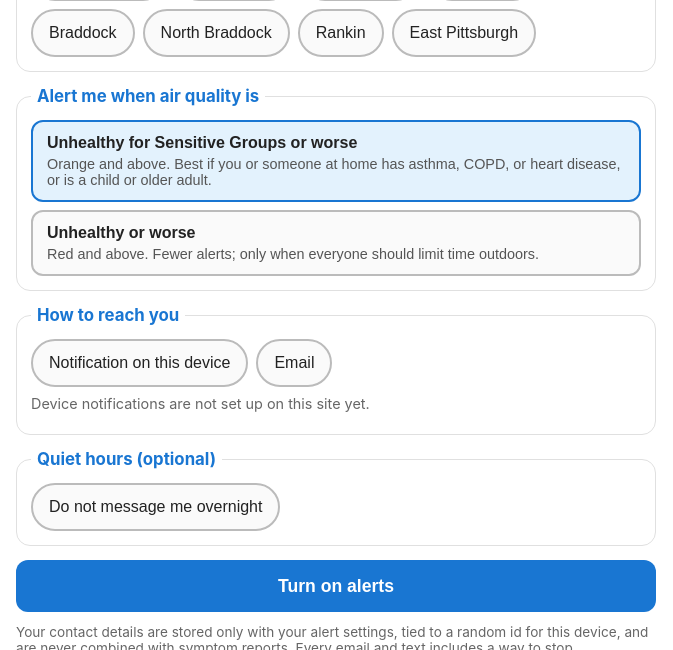
Test: AlertsView › requires a municipality and a channel
(page scrolled)
Click the button "Turn on alerts".
click(336, 586)  # box [16, 560, 656, 612]
(page scrolled)
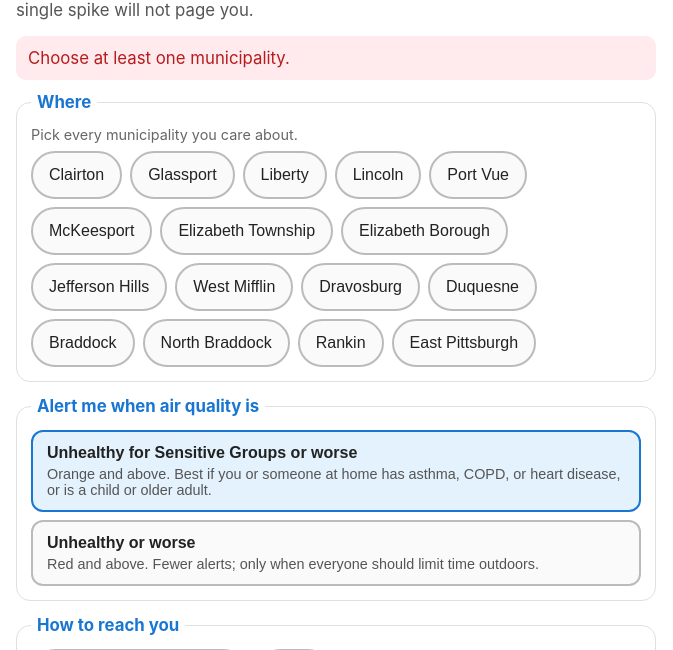
Result: the message shows "municipality" at [28, 48, 290, 68]
Click the button "Clairton".
click(77, 175)  # box [31, 151, 122, 199]
(page scrolled)
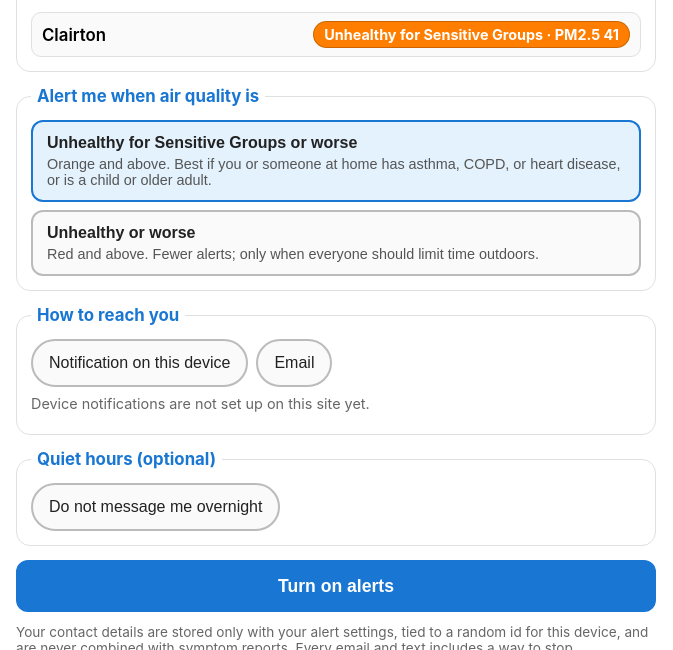
Click the button "Turn on alerts".
click(336, 586)  # box [16, 560, 656, 612]
(page scrolled)
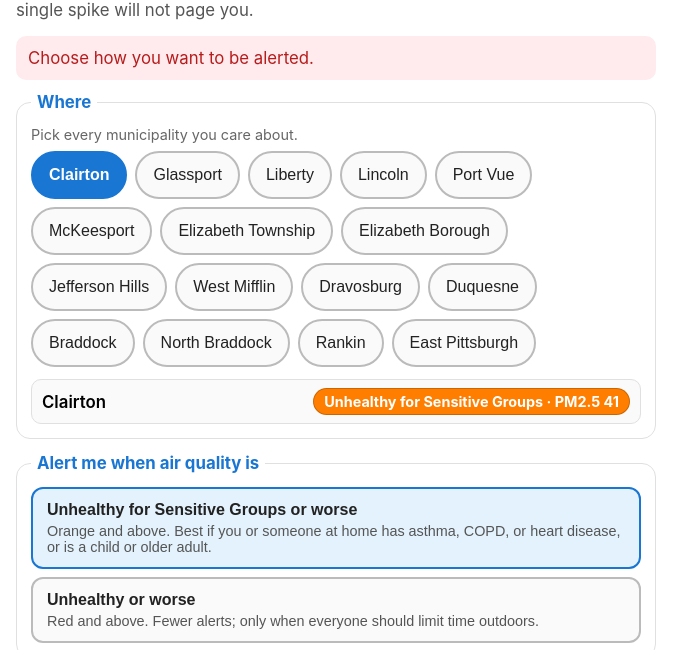
Result: the message shows "how you want to be alerted" at [28, 48, 314, 68]
